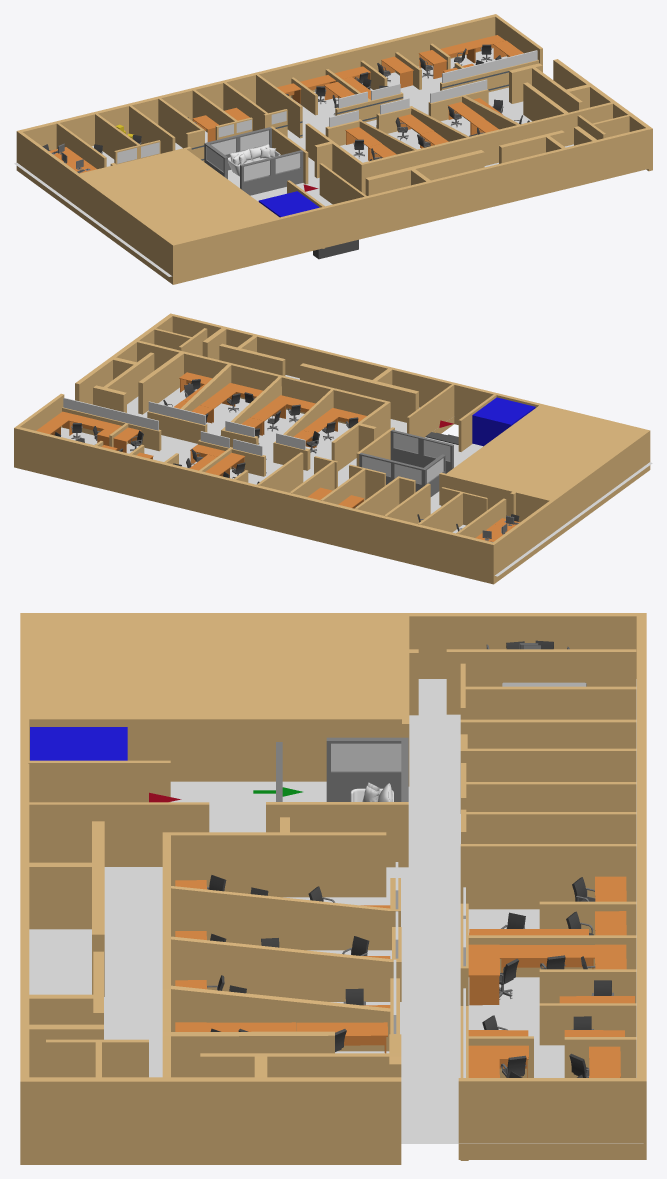
Rendered from first.glb.
The picture shows the model from 3 angles, top to bottom: view 1: azimuth 30°, elevation 25°; view 2: azimuth 150°, elevation 25°; view 3: azimuth 270°, elevation 25°; orthographic projection. The views are drawn at different scales.
Visible parts, largest first — view 1: Seat part; view 2: Seat part; view 3: Seat part.
Part boxes in pixels (x1=…): Seat part: x1=14, y1=14, x2=652, y2=284; Seat part: x1=14, y1=313, x2=652, y2=584; Seat part: x1=20, y1=613, x2=646, y2=1164.
Bounding box in the file's own units: 24.04 × 2.73 × 13.49.
